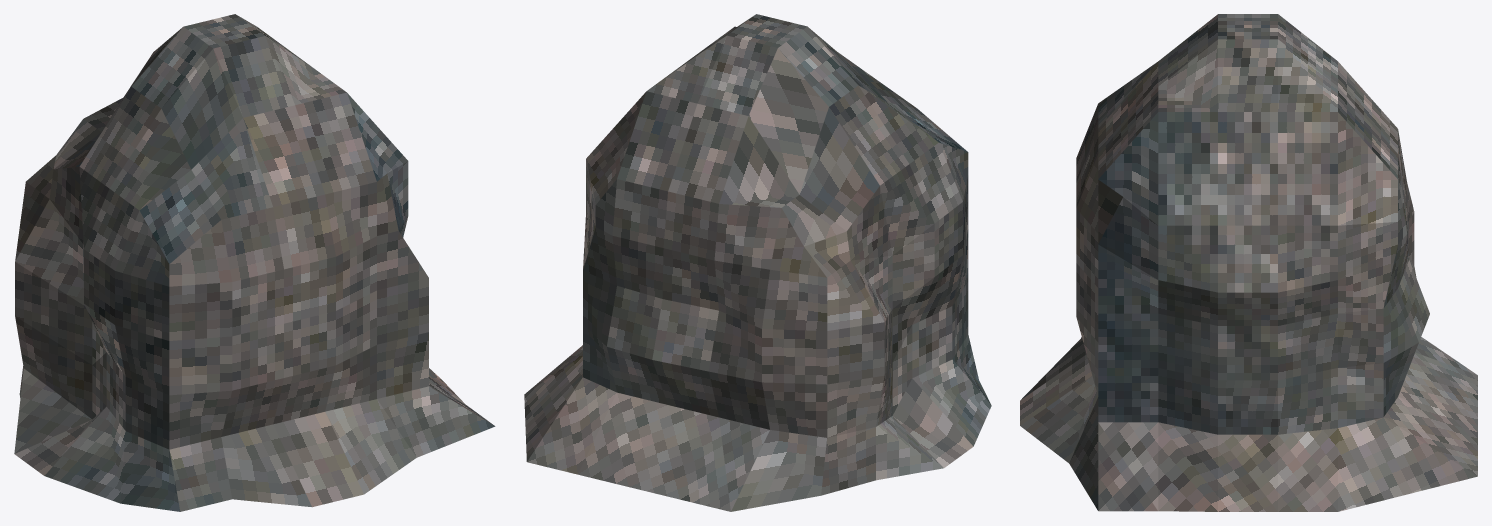
The model's file is rock1.glb.
3 views of the same model, side by side, from view 1: azimuth 30°, elevation 25°; view 2: azimuth 150°, elevation 25°; view 3: azimuth 270°, elevation 25° (orthographic).
Parts seen in each view (by area): view 1: Cube.005; view 2: Cube.005; view 3: Cube.005.
Boxes of the visible parts, left/top/right/bottom form: Cube.005: left=14, top=14, right=495, bottom=511; Cube.005: left=524, top=14, right=991, bottom=511; Cube.005: left=1020, top=14, right=1477, bottom=511.
Bounding box in the file's own units: 3.06 × 2.86 × 3.05.
Materials: 1 (1 with a texture image).
